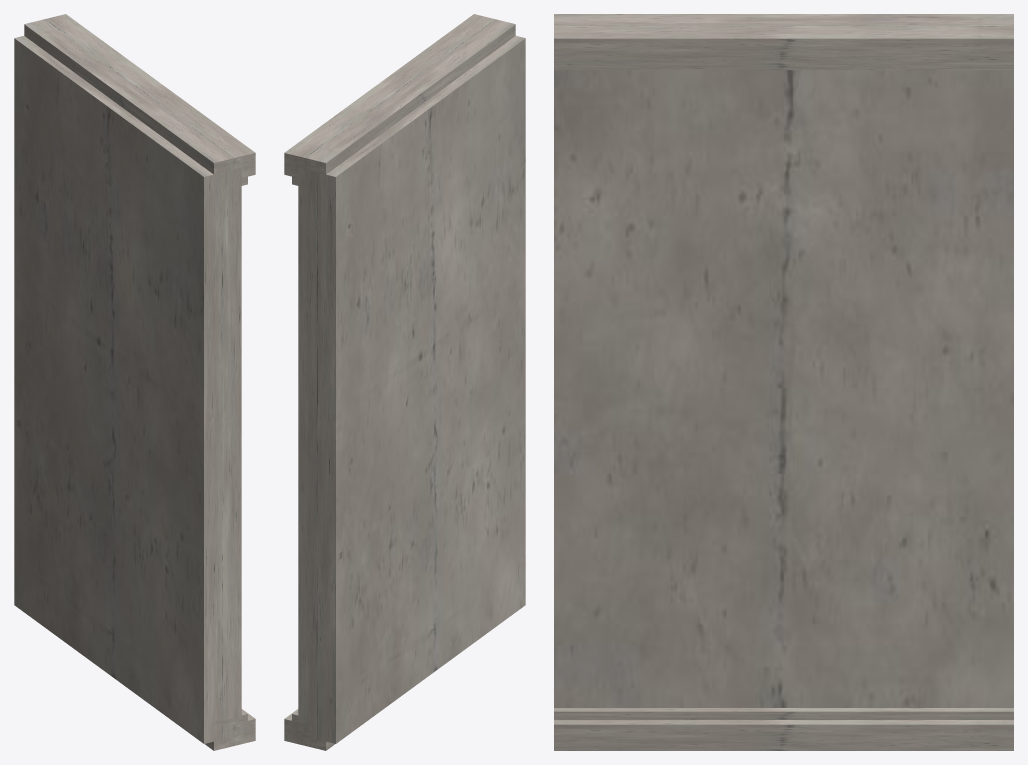
The model's file is Environment_MarbleWall_White.glb.
3 views of the same model, side by side, from view 1: azimuth 30°, elevation 25°; view 2: azimuth 150°, elevation 25°; view 3: azimuth 270°, elevation 25° (orthographic). The views are drawn at different scales.
Parts seen in each view (by area): view 1: Cube.026, Cube.035, Cube.032; view 2: Cube.026, Cube.035, Cube.032; view 3: Cube.026, Cube.035, Cube.032, Cube.033, Cube.034.
Boxes of the visible parts, x1,y1,x2,y2 form: Cube.026: [14, 36, 241, 743]; Cube.035: [24, 14, 255, 182]; Cube.032: [205, 709, 255, 750]; Cube.026: [298, 36, 525, 743]; Cube.035: [284, 14, 515, 183]; Cube.032: [284, 709, 334, 750]; Cube.026: [554, 70, 1013, 707]; Cube.035: [554, 14, 1013, 64]; Cube.032: [554, 720, 1013, 750]; Cube.033: [554, 708, 1013, 719]; Cube.034: [554, 65, 1013, 69].
Bounding box in the file's own units: 1.87 × 20.37 × 11.92.
5 materials, 5 textured.
